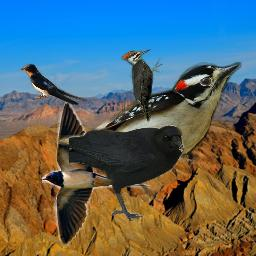Crow: (69, 125, 184, 221)
Swallow: (42, 100, 152, 249), (19, 62, 88, 106)
Woodpecker: (56, 58, 242, 164), (121, 49, 163, 123)
